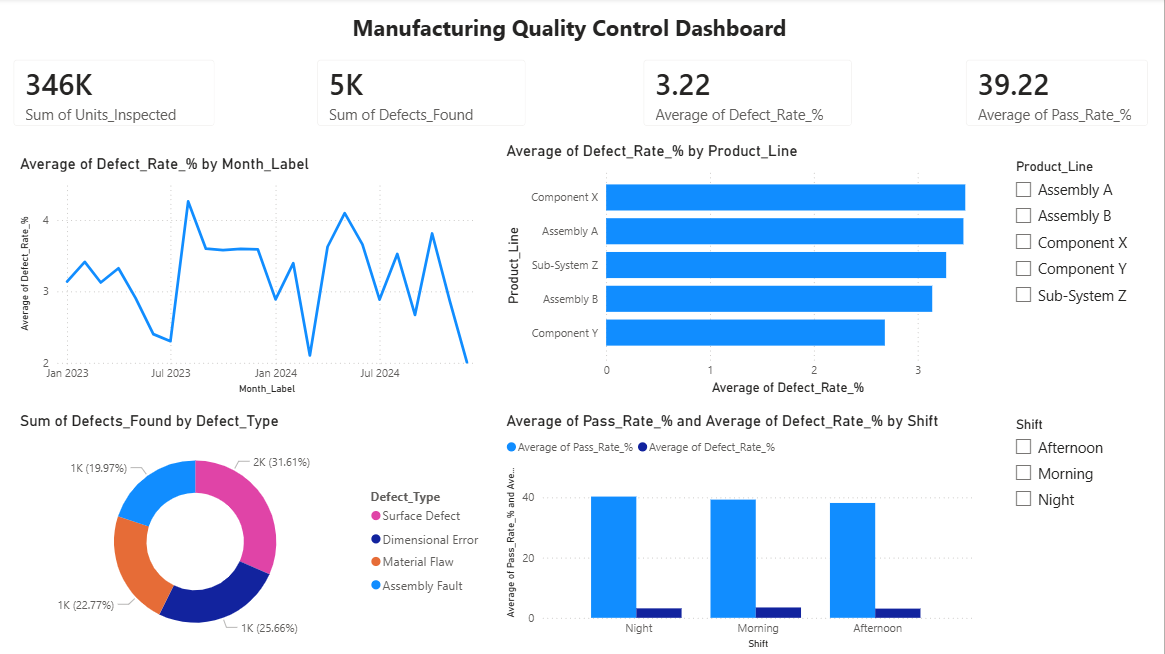

Layout of this report page (visuals, bound fields, positions):
{"tool":"powerbi","page":{"name":"Page 1","canvas":[1280,720],"ordinal":0},"visuals":[{"type":"cardVisual","fields":{"Data":["Sum(quality_summary_for_powerbi.Units_Inspected)"]},"box":[0,50.8,255.2,107],"z":0},{"type":"cardVisual","fields":{"Data":["Sum(quality_summary_for_powerbi.Defects_Found)"]},"box":[333.4,50.8,263.5,107],"z":1000},{"type":"cardVisual","fields":{"Data":["Avg(quality_summary_for_powerbi.Defect_Rate_%)"]},"box":[691.6,50.8,263.5,107],"z":2000},{"type":"cardVisual","fields":{"Data":["Avg(quality_summary_for_powerbi.Pass_Rate_%)"]},"box":[1045.6,50.8,234.6,107],"z":3000},{"type":"lineChart","fields":{"Y":["Avg(quality_summary_for_powerbi.Defect_Rate_%)"],"Category":["quality_summary_for_powerbi.Month_Label"]},"box":[19.2,171.5,522.8,269],"z":4000},{"type":"clusteredBarChart","fields":{"Category":["quality_summary_for_powerbi.Product_Line"],"Y":["Avg(quality_summary_for_powerbi.Defect_Rate_%)"]},"box":[553,157.8,522.8,282.7],"z":5000},{"type":"donutChart","fields":{"Category":["quality_summary_for_powerbi.Defect_Type"],"Y":["Sum(quality_summary_for_powerbi.Defects_Found)"]},"box":[19.2,454.2,522.8,266.2],"z":6000},{"type":"clusteredColumnChart","fields":{"Category":["quality_summary_for_powerbi.Shift"],"Y":["Avg(quality_summary_for_powerbi.Pass_Rate_%)","Avg(quality_summary_for_powerbi.Defect_Rate_%)"]},"box":[553,454.2,522.8,266.2],"z":7000},{"type":"slicer","fields":{"Values":["quality_summary_for_powerbi.Product_Line"]},"box":[1104.6,171.5,152.3,189.4],"z":8000},{"type":"slicer","fields":{"Values":["quality_summary_for_powerbi.Shift"]},"box":[1104.6,454.2,152.3,185.2],"z":9000},{"type":"textbox","box":[384.2,11,510.5,52.1],"z":10000}]}

Visuals, with their boxes in screenshot pixels (x1, y1, x2, y2), scaled from the page's 1280x720 canvas onto the 1165x654 screenshot:
cardVisual - Sum(quality_summary_for_powerbi.Units_Inspected): (0, 46, 232, 143)
cardVisual - Sum(quality_summary_for_powerbi.Defects_Found): (303, 46, 543, 143)
cardVisual - Avg(quality_summary_for_powerbi.Defect_Rate_%): (629, 46, 869, 143)
cardVisual - Avg(quality_summary_for_powerbi.Pass_Rate_%): (952, 46, 1164, 143)
lineChart - Avg(quality_summary_for_powerbi.Defect_Rate_%) x quality_summary_for_powerbi.Month_Label: (17, 156, 493, 400)
clusteredBarChart - quality_summary_for_powerbi.Product_Line x Avg(quality_summary_for_powerbi.Defect_Rate_%): (503, 143, 979, 400)
donutChart - quality_summary_for_powerbi.Defect_Type x Sum(quality_summary_for_powerbi.Defects_Found): (17, 413, 493, 653)
clusteredColumnChart - quality_summary_for_powerbi.Shift x Avg(quality_summary_for_powerbi.Pass_Rate_%): (503, 413, 979, 653)
slicer - quality_summary_for_powerbi.Product_Line: (1005, 156, 1144, 328)
slicer - quality_summary_for_powerbi.Shift: (1005, 413, 1144, 581)
textbox: (350, 10, 814, 57)
